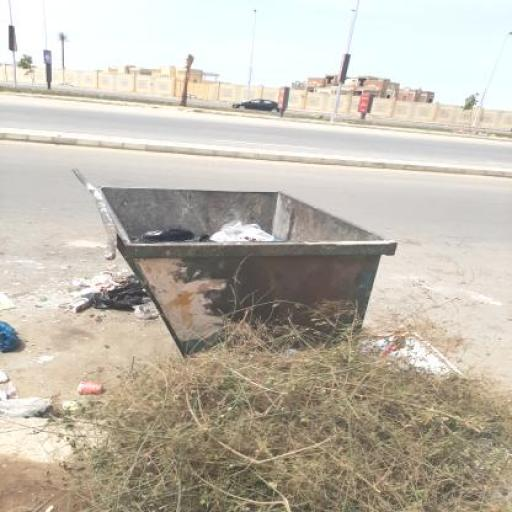street light: (470, 32, 512, 128), (334, 9, 358, 124), (245, 10, 258, 106)
